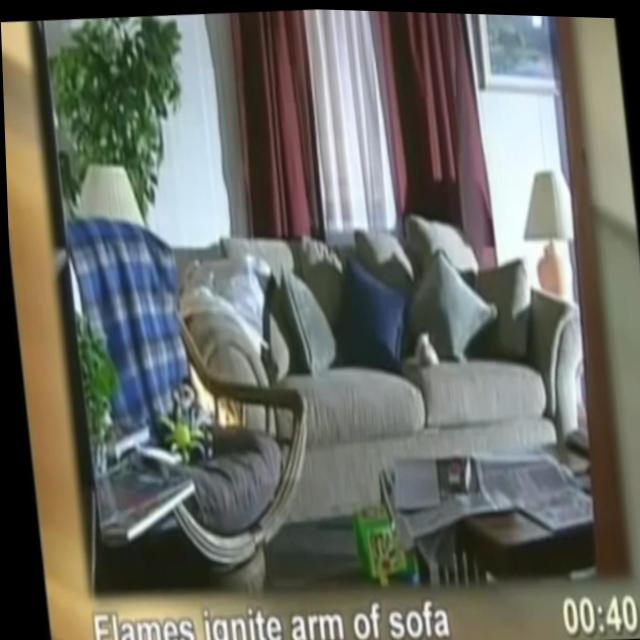fire: (185, 356, 235, 432)
